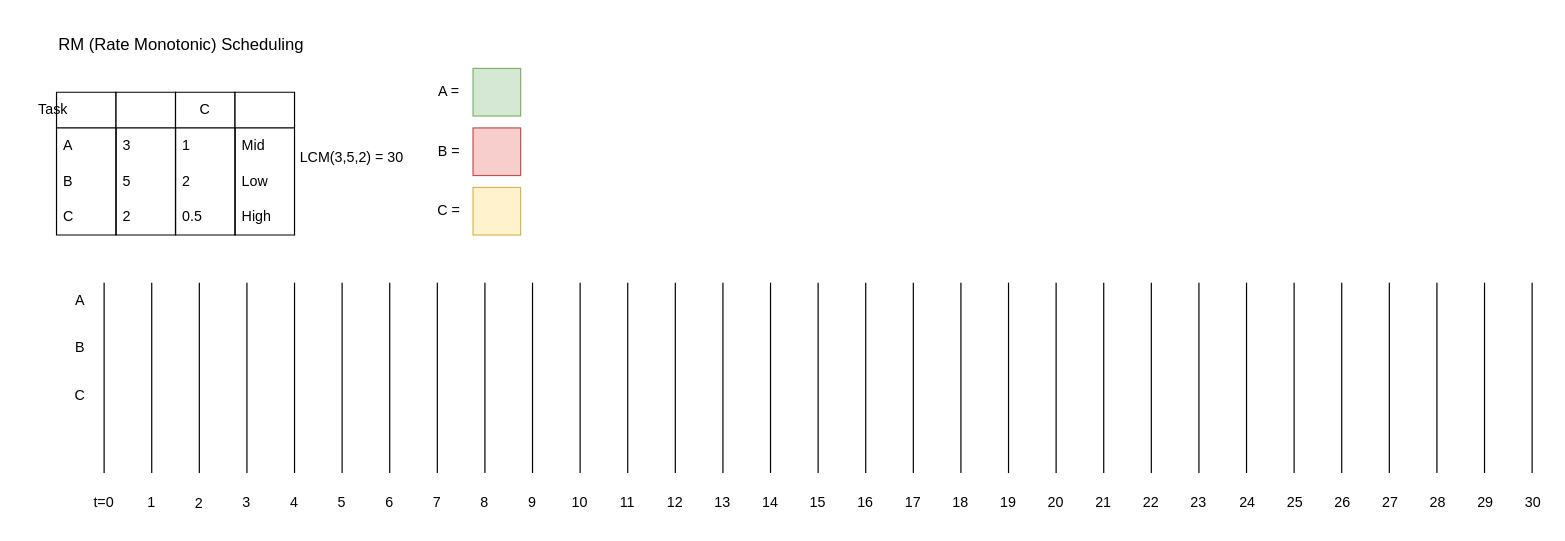
Image size: 1565x541. Some labels were removed from this diagram. The box of each missing label's shape, as (x1, y1, x2, y2) in pixels:
D=T: (115, 91, 176, 235)
Prio: (234, 91, 295, 235)
